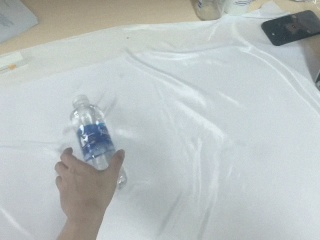bottle: (69, 94, 127, 189)
phone: (261, 10, 320, 47)
